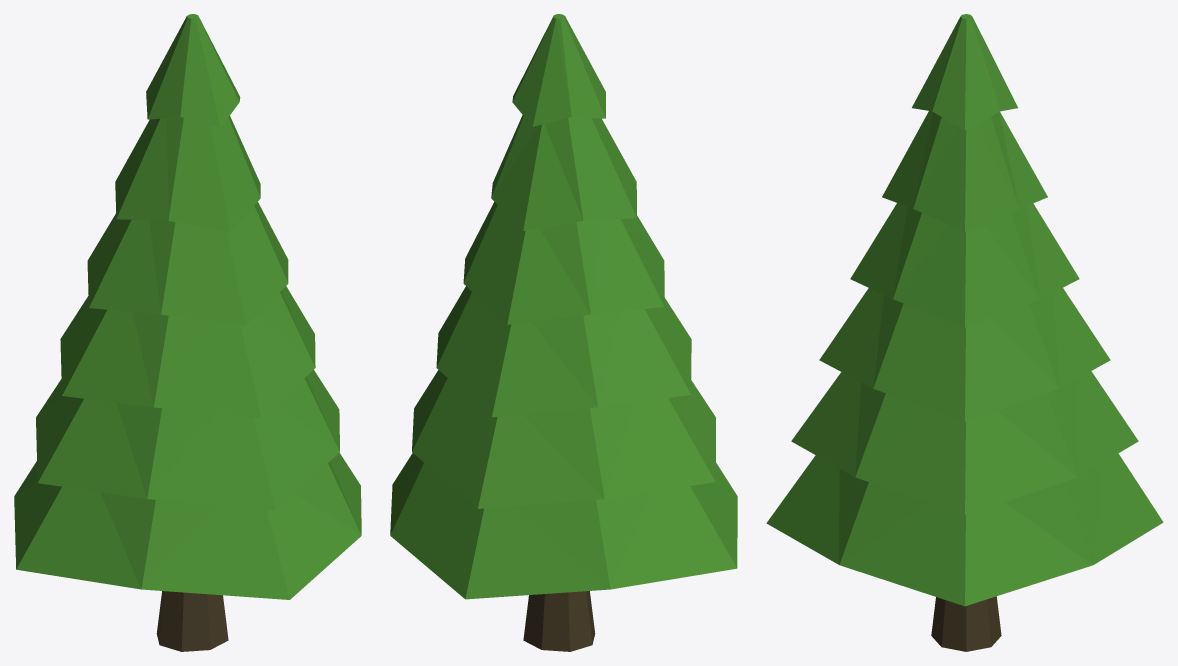
File: tree.dae
3 views of the same model, side by side, from view 1: azimuth 30°, elevation 25°; view 2: azimuth 150°, elevation 25°; view 3: azimuth 270°, elevation 25° (orthographic).
Parts seen in each view (by area): view 1: Cylinder_001, Cylinder_002; view 2: Cylinder_001, Cylinder_002; view 3: Cylinder_001, Cylinder_002.
Boxes of the visible parts, <box> form: Cylinder_001: <box>14,14,361,599</box>; Cylinder_002: <box>156,591,228,651</box>; Cylinder_001: <box>390,14,737,599</box>; Cylinder_002: <box>523,591,595,651</box>; Cylinder_001: <box>766,14,1163,606</box>; Cylinder_002: <box>931,596,1001,651</box>.
Bounding box in the file's own units: 7.58 × 7.58 × 13.04.
